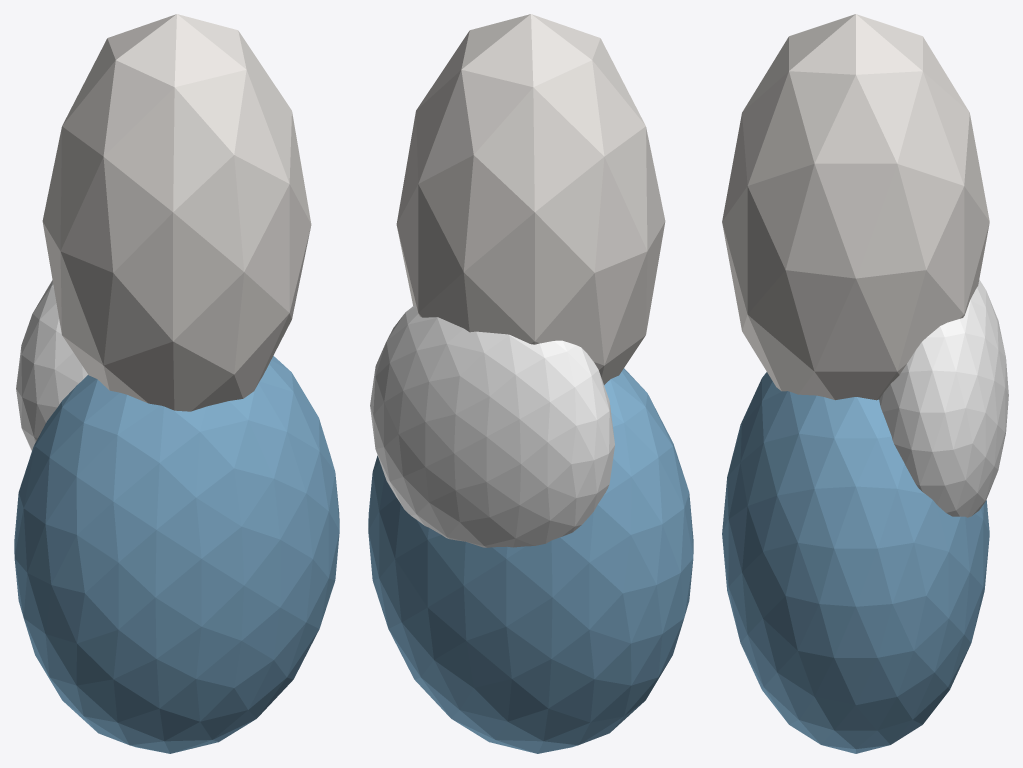
File: gnomo.glb
3 views of the same model, side by side, from view 1: azimuth 30°, elevation 25°; view 2: azimuth 150°, elevation 25°; view 3: azimuth 270°, elevation 25° (orthographic).
Parts seen in each view (by area): view 1: cuerpo, gorro, barba; view 2: gorro, cuerpo, barba; view 3: gorro, cuerpo, barba.
Boxes of the visible parts, <box> form: cuerpo: <box>14,356,339,753</box>; gorro: <box>42,14,311,411</box>; barba: <box>16,280,87,450</box>; gorro: <box>396,14,665,384</box>; cuerpo: <box>368,368,693,753</box>; barba: <box>370,305,614,547</box>; gorro: <box>722,14,989,400</box>; cuerpo: <box>722,372,989,753</box>; barba: <box>879,280,1008,517</box>.
Bounding box in the file's own units: 0.3857 × 0.9 × 0.3214.
